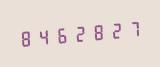eight: (17, 25, 34, 50), (89, 19, 106, 44)
four: (35, 23, 52, 49)
seven: (125, 16, 142, 41)
six: (53, 22, 70, 47)
two: (71, 20, 88, 46), (107, 17, 124, 43)
